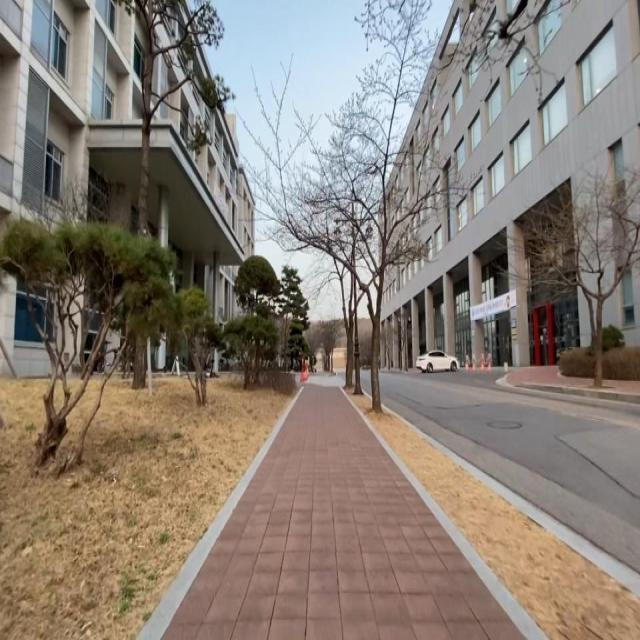sidewalk: (162, 386, 527, 640), (506, 366, 594, 388), (595, 379, 640, 395)
